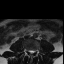CCS_normal: (30, 48, 32, 56)
LFS_normal: (34, 48, 36, 54)
LLS_normal: (32, 48, 34, 55)
RFS_stenosis: (27, 47, 29, 53)
RLS_normal: (29, 48, 30, 54)
